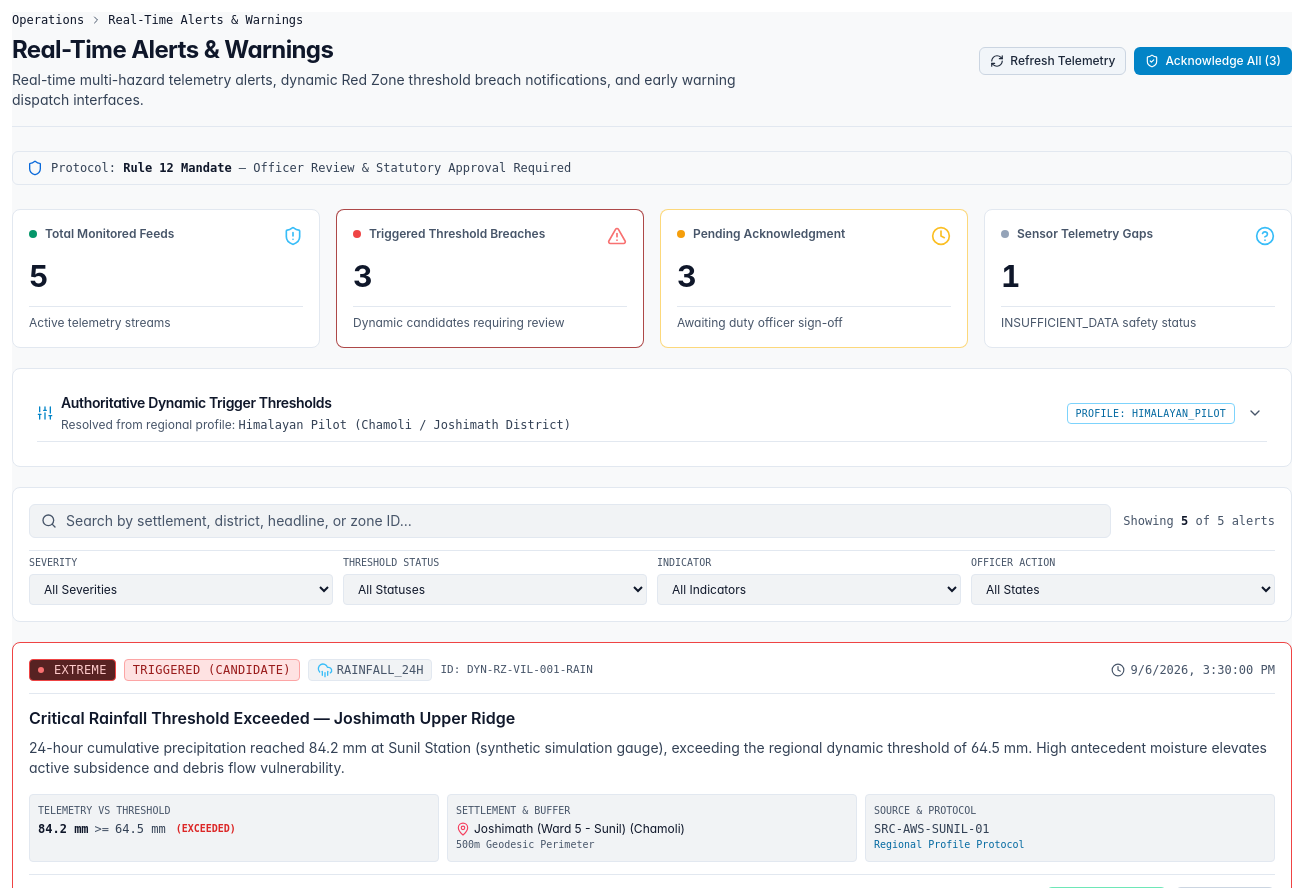
Test: Real-Time Alerts & Threshold Warnings UI Suite (Chunk M6-05) › Filtering & Search Controls › renders empty state when search returns no matches and allows reset
expect the heading "Critical Rainfall Threshold Exceeded — Joshimath Upper Ridge" is shown: met, box [29,708,515,728]
Type "NonExistentVillageXYZ" into the field with placeholder "Search by settlement, district, headline, or zone ID...". click: (570, 521)
box: [29,504,1111,538]
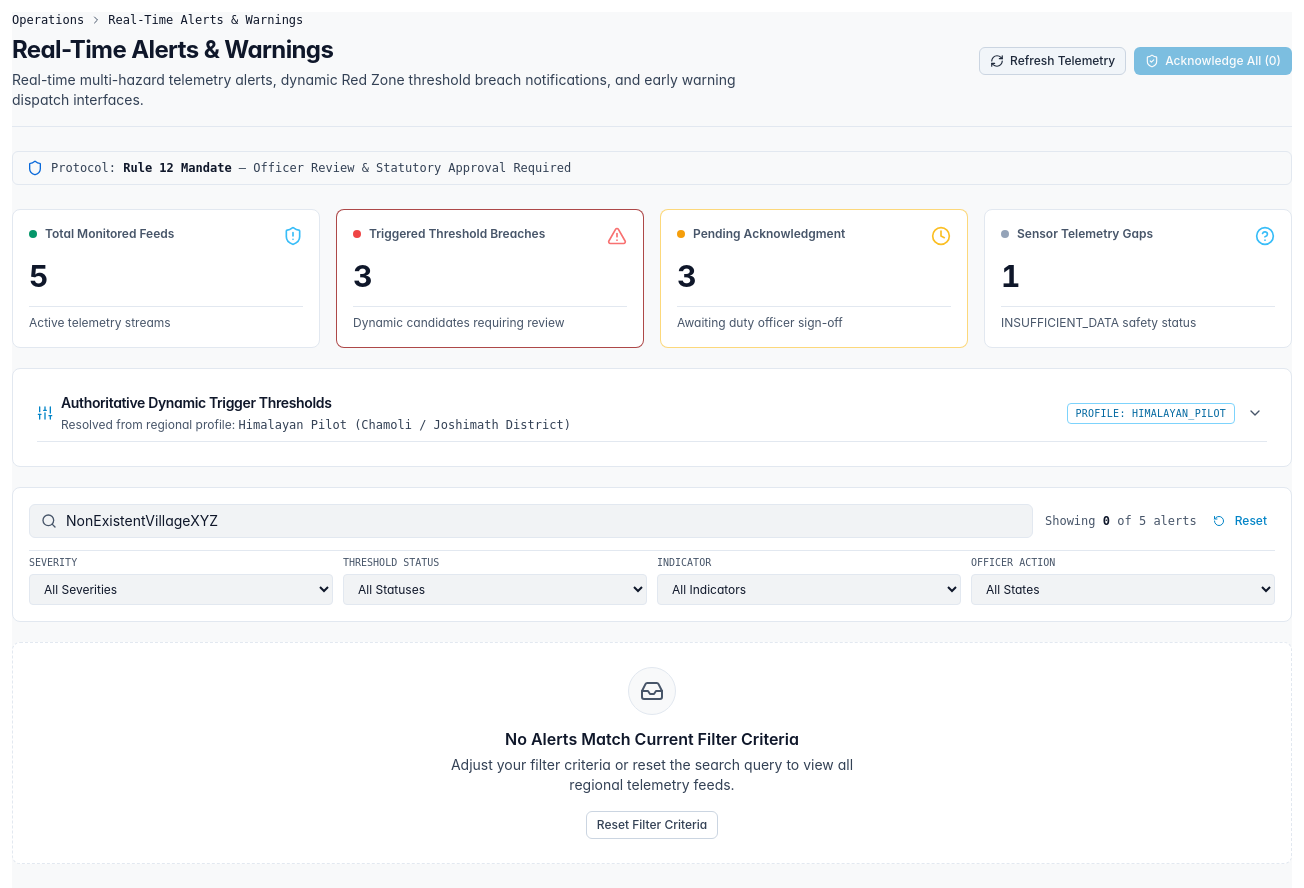
expect the heading "No Alerts Match Current Filter Criteria" is shown: met, box [505,729,799,749]
Click the button "Reset Filter Criteria". click: (652, 825)
box: [586,811,718,839]
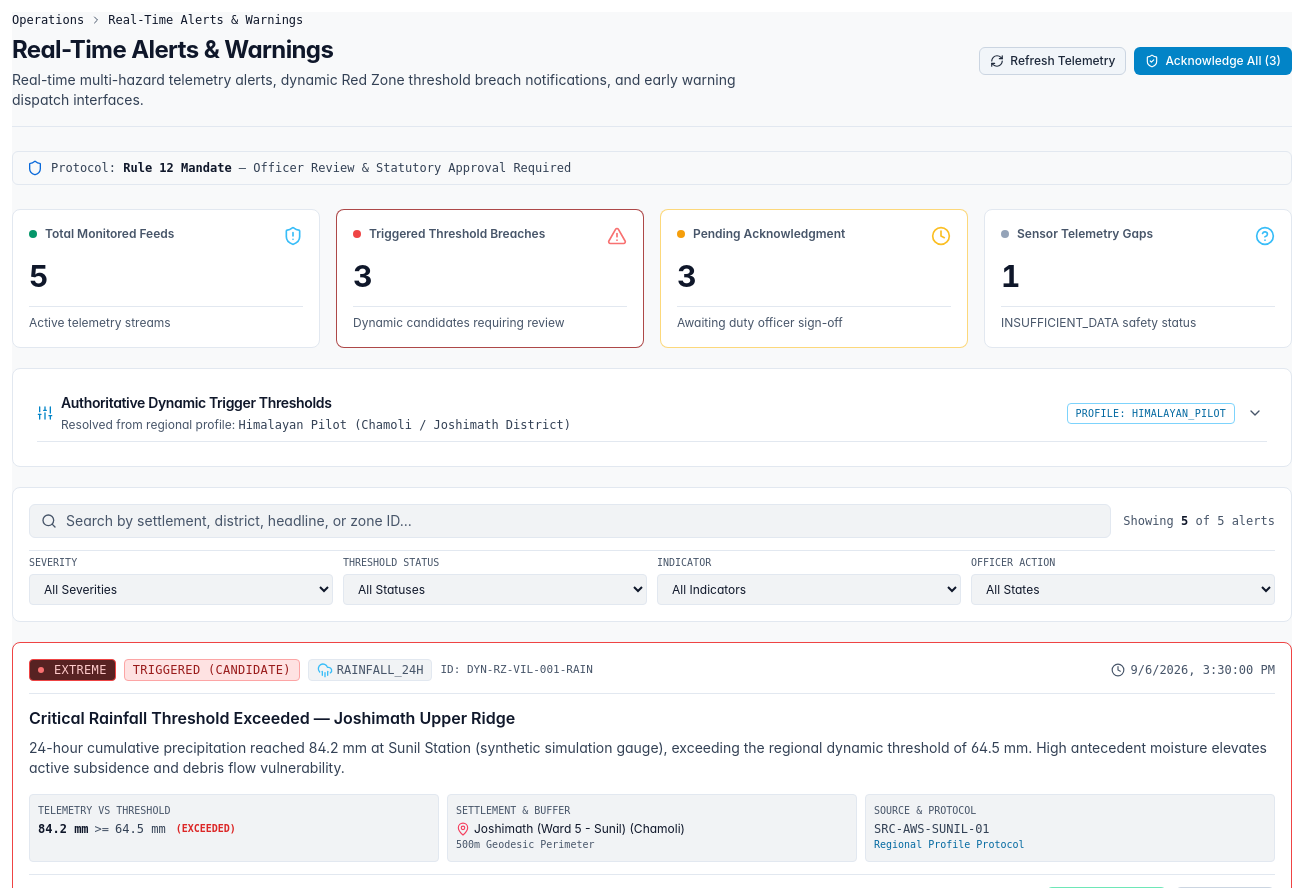
expect the heading "Critical Rainfall Threshold Exceeded — Joshimath Upper Ridge" is shown: met, box [29,708,515,728]
